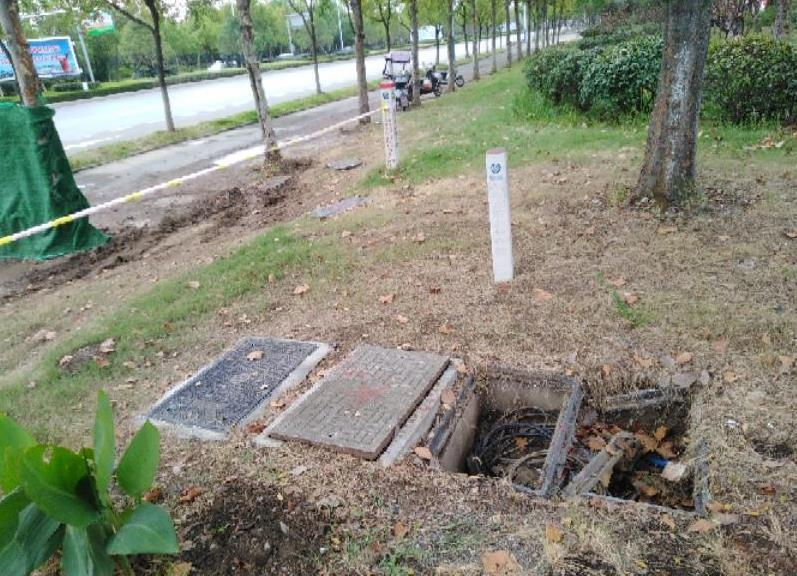wellcover: (419, 349, 724, 524), (280, 335, 444, 464), (151, 333, 298, 446)
